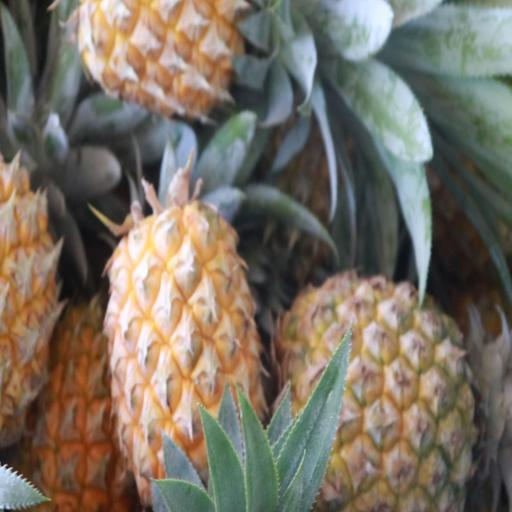Pineapple - v8 v1: (282, 278, 489, 512), (109, 204, 264, 512), (78, 0, 312, 128), (31, 300, 132, 509)
